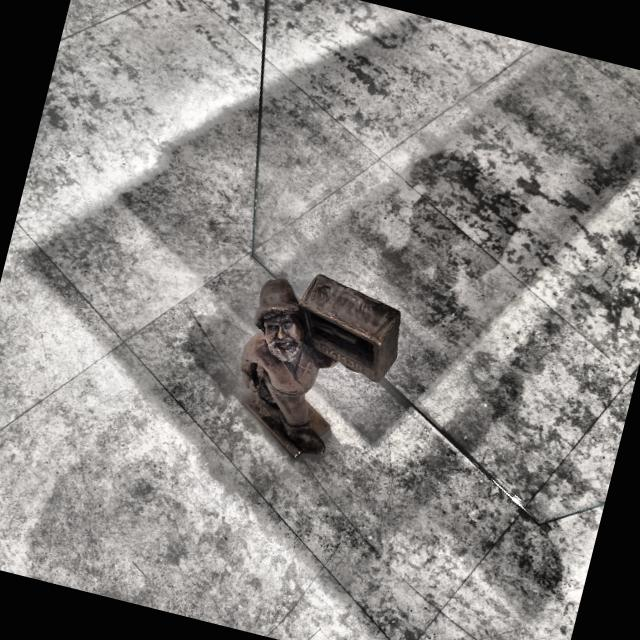GigaHercjusz: (240, 274, 400, 458)
